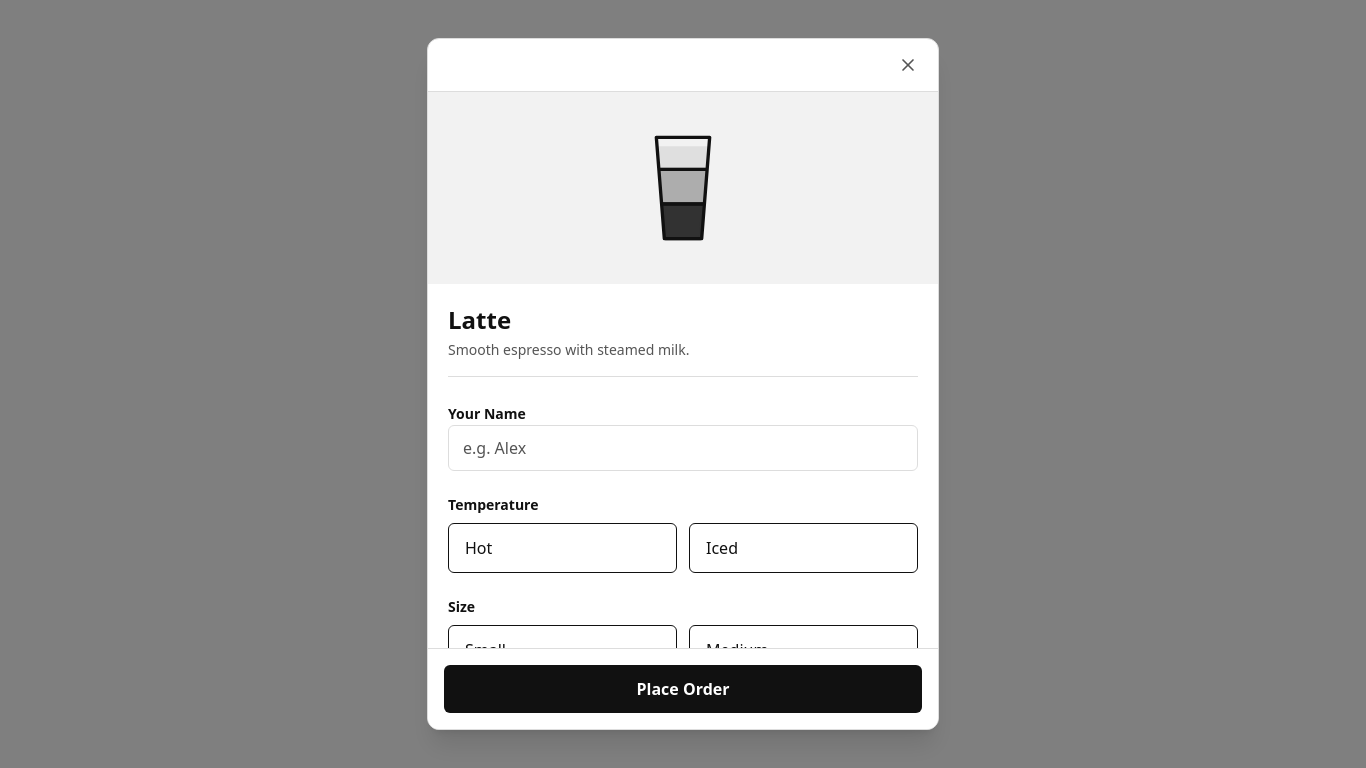
CustomizationDrawer › Validation before Place Order › displays validation errors and prevents submission when name and options are missing
Click the button "Place Order" at x=683, y=689, box [444, 665, 922, 713]
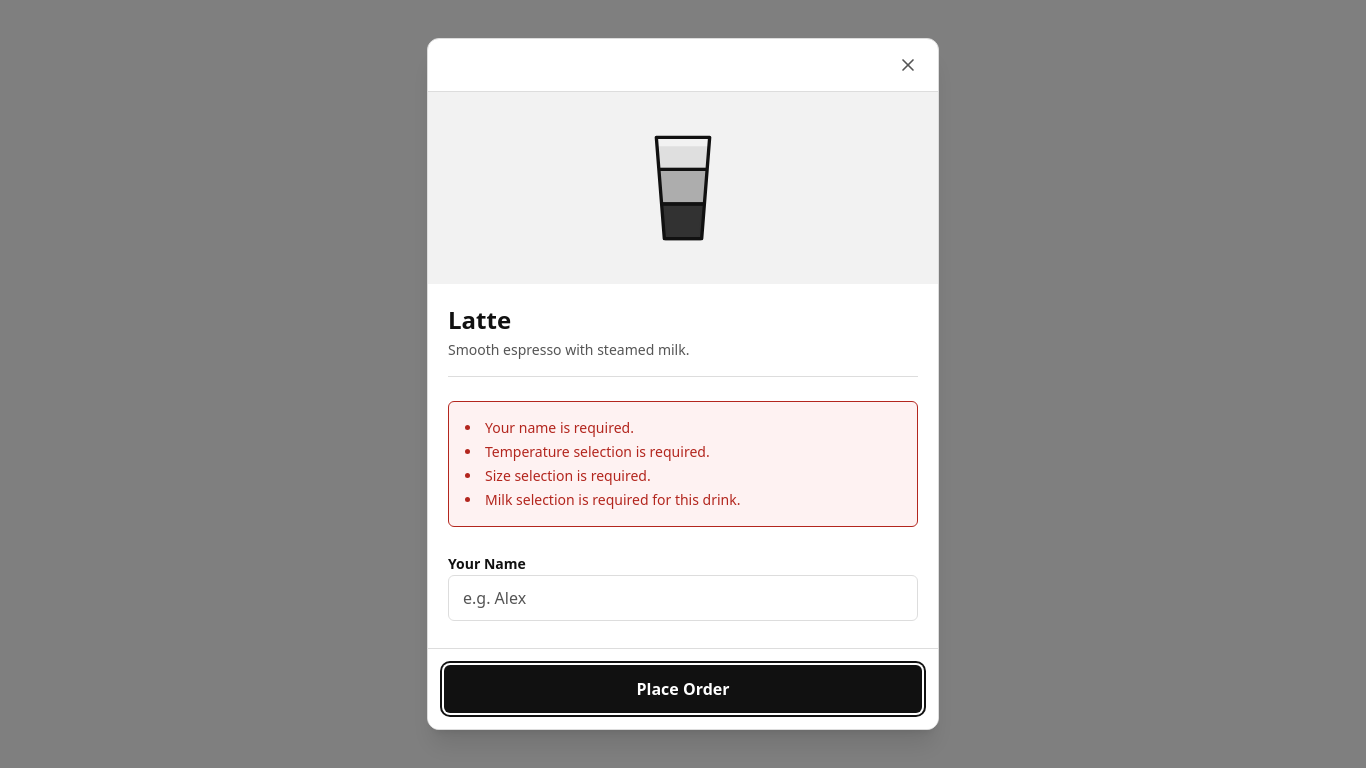
Result: the message is shown at [448, 401, 918, 527]
Result: the list item "Your name is required." is shown at [485, 418, 634, 437]
Result: the list item "Temperature selection is required." is shown at [485, 442, 710, 461]
